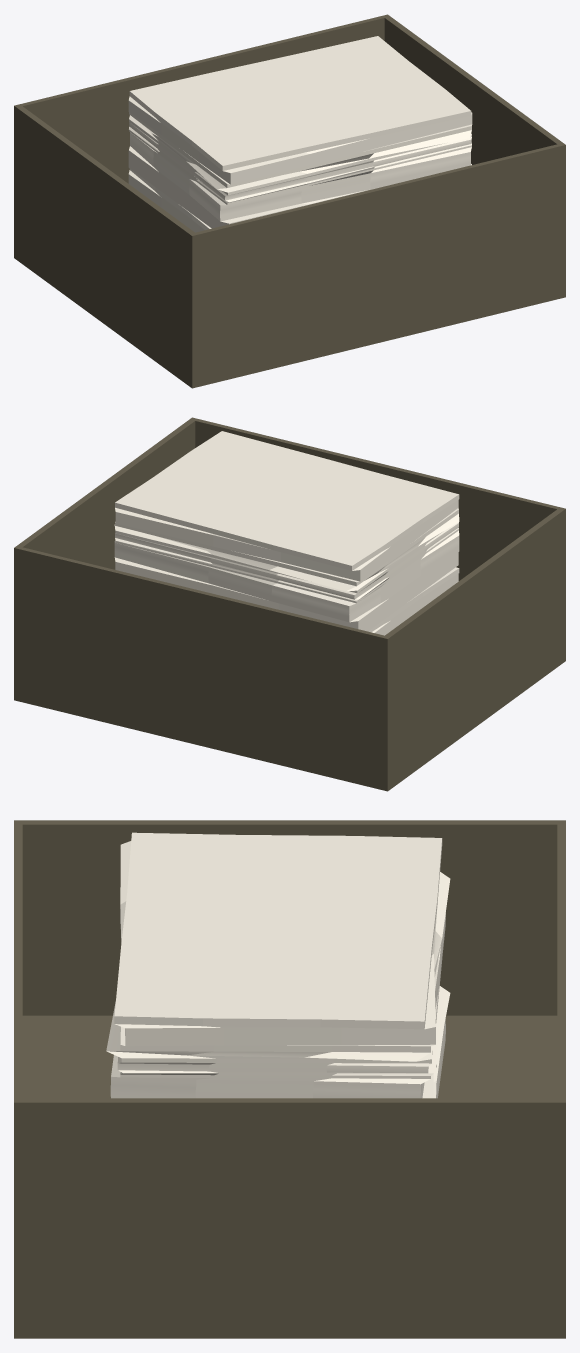
File: fbx_stack_of_documents.fbx
3 renders of one model, top to bottom at view 1: azimuth 30°, elevation 25°; view 2: azimuth 150°, elevation 25°; view 3: azimuth 270°, elevation 25°, orthographic. The views are drawn at different scales.
Parts seen in each view (by area): view 1: fbx_stack_of_documents; view 2: fbx_stack_of_documents; view 3: fbx_stack_of_documents.
Part boxes in pixels (bbox=[...]): fbx_stack_of_documents: bbox=[14, 14, 565, 388]; fbx_stack_of_documents: bbox=[14, 417, 565, 791]; fbx_stack_of_documents: bbox=[14, 820, 565, 1338].
Size of the model in its own units: 0.5801 by 0.2637 by 0.479.
1 material, 1 textured.
